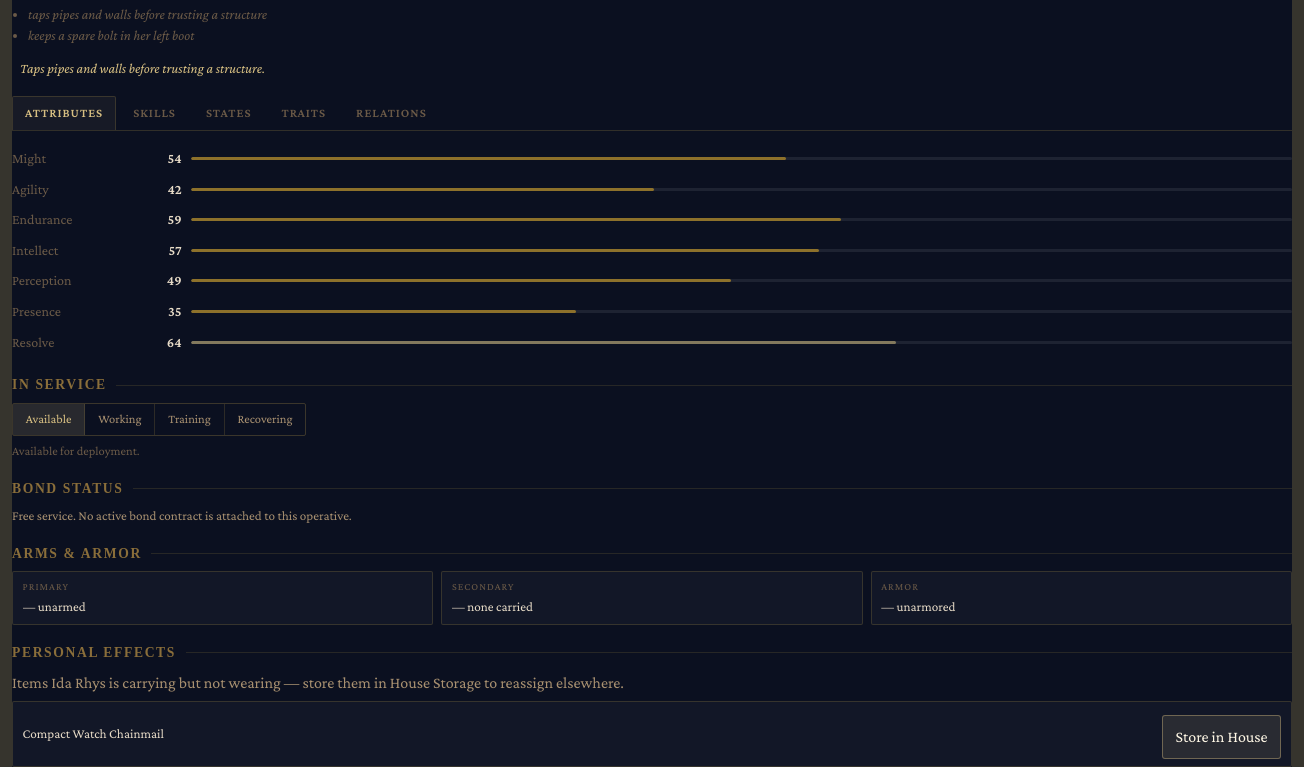
Test: NpcDetailPanel — Personal Effects (unequipped items were invisible) › moves the item into House Storage and removes it from the section when Store is clicked
(page scrolled)
Click the button "Store in House" at (1222,737), box [1162,715,1281,759]
(page scrolled)
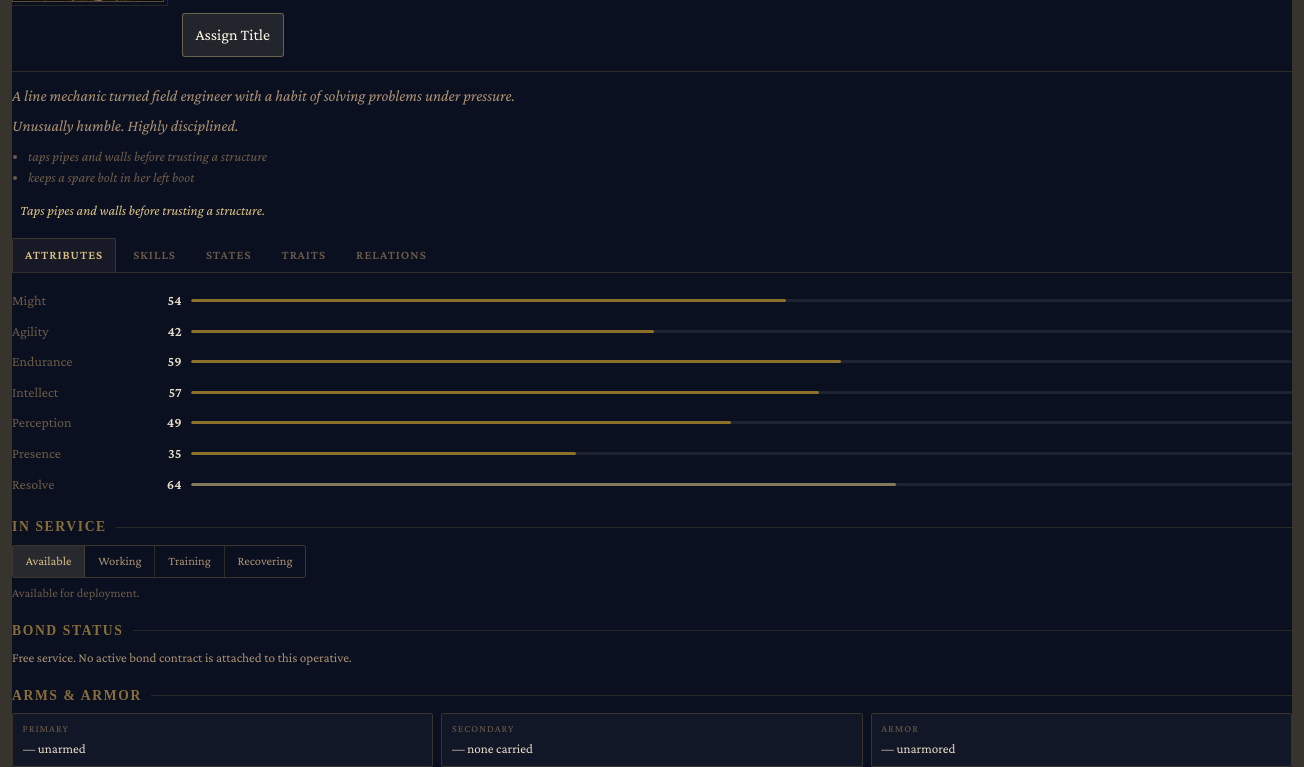
expect the heading "Personal Effects" is gone: met
